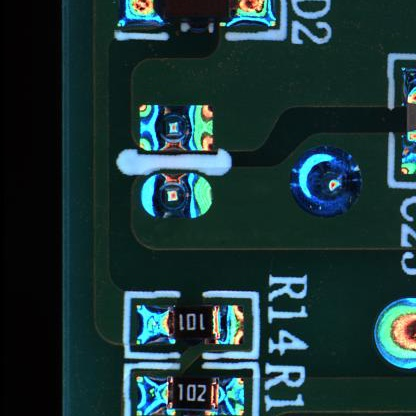spot: (280, 142, 369, 220), (129, 99, 222, 158), (136, 169, 228, 225)
